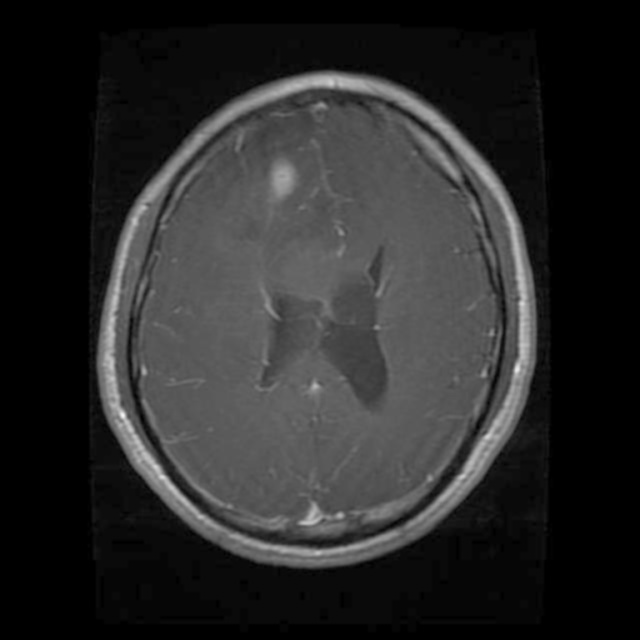pituitary tumor: (264, 156, 302, 204)
